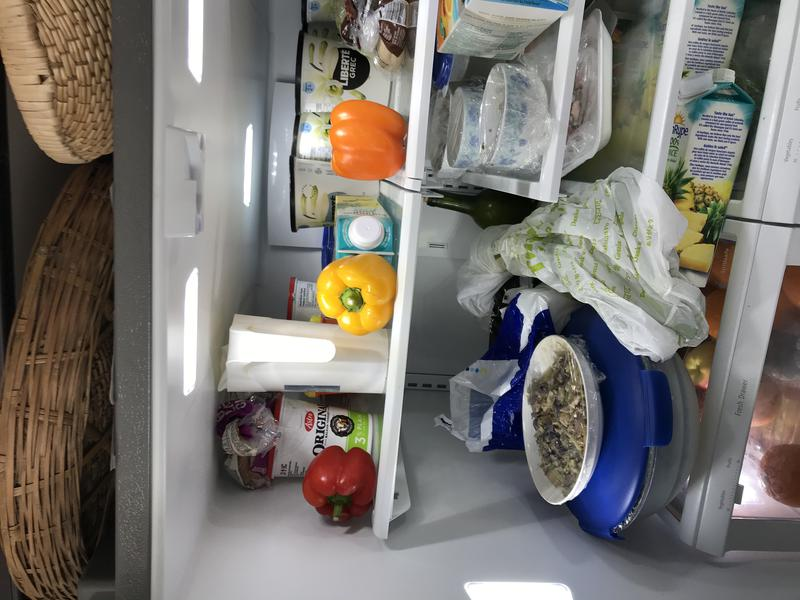orange_pepper: (324, 98, 412, 188)
red_pepper: (303, 442, 379, 536)
yellow_pepper: (311, 248, 396, 340)
